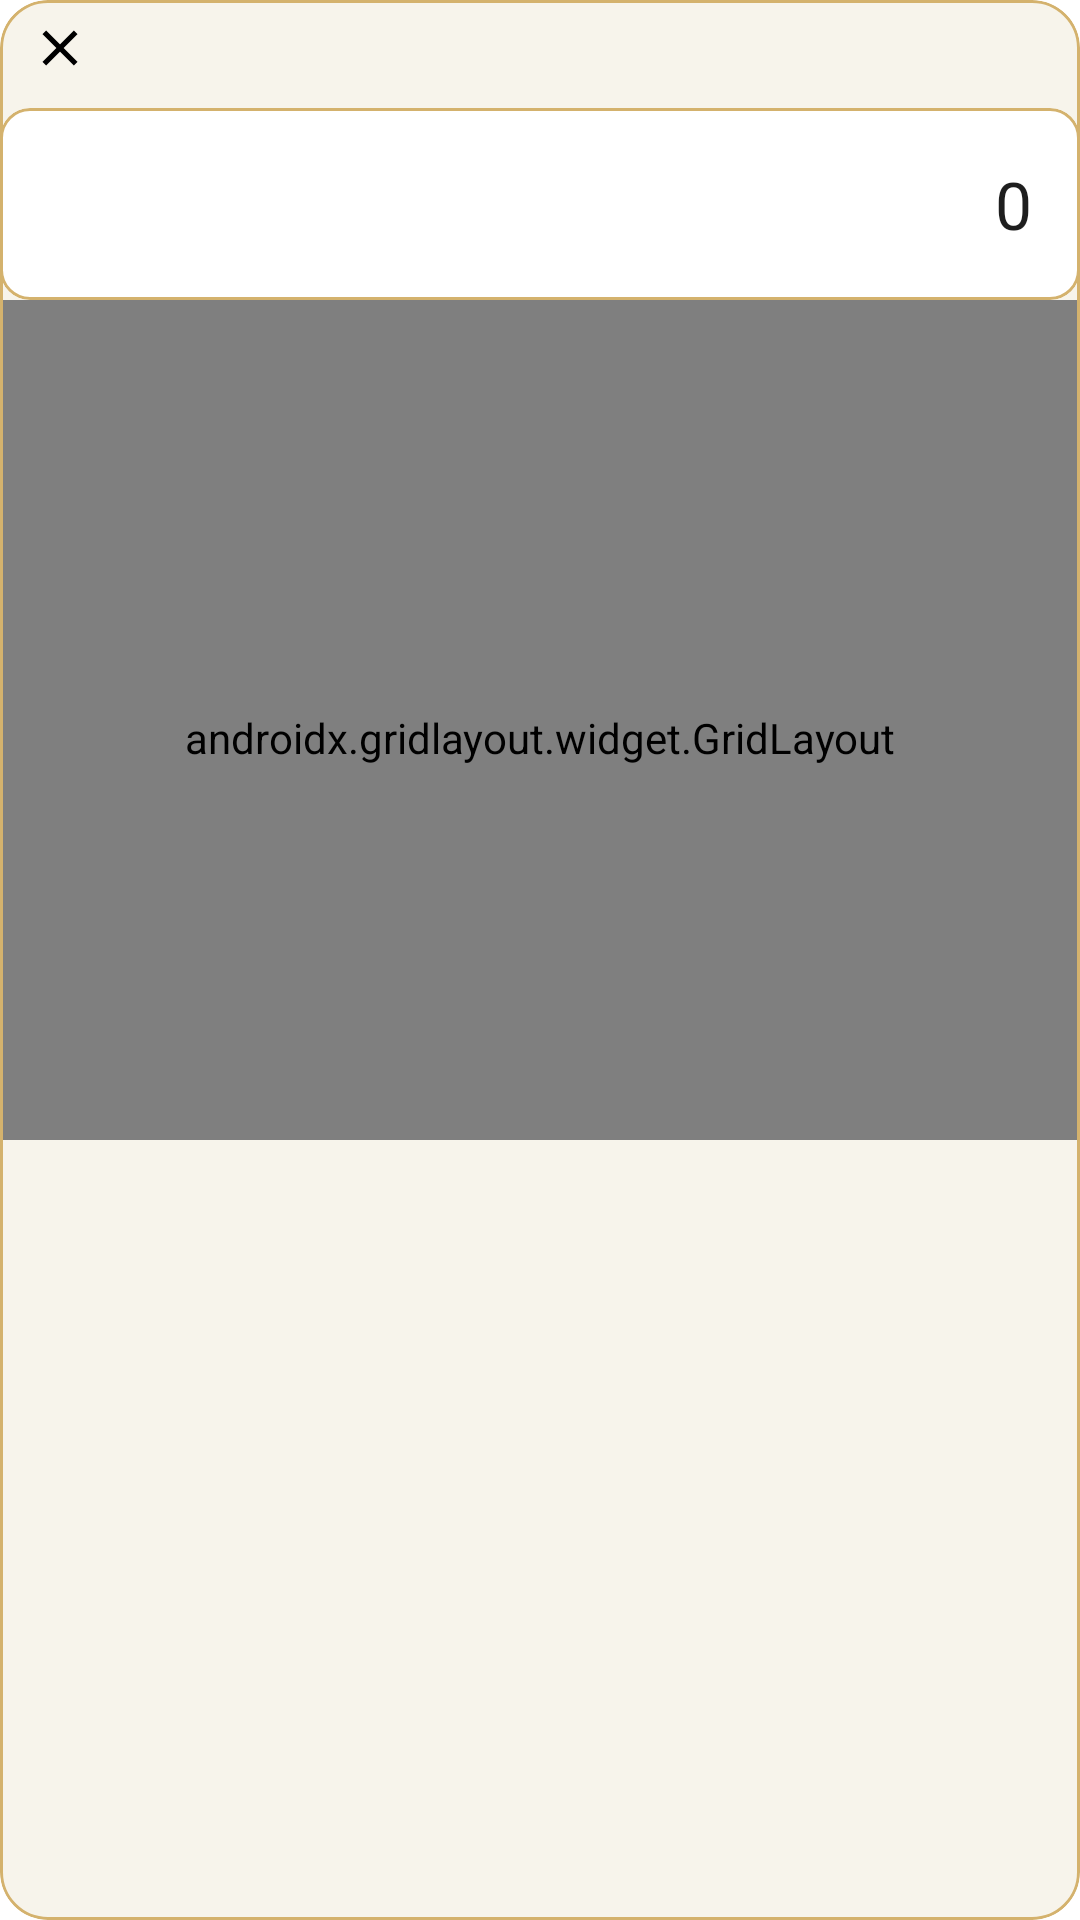

Point at icon controls on the screen. Image size 1080px x 1920px, points as (x=x, y=y).
Cerrar: (x=60, y=48)
